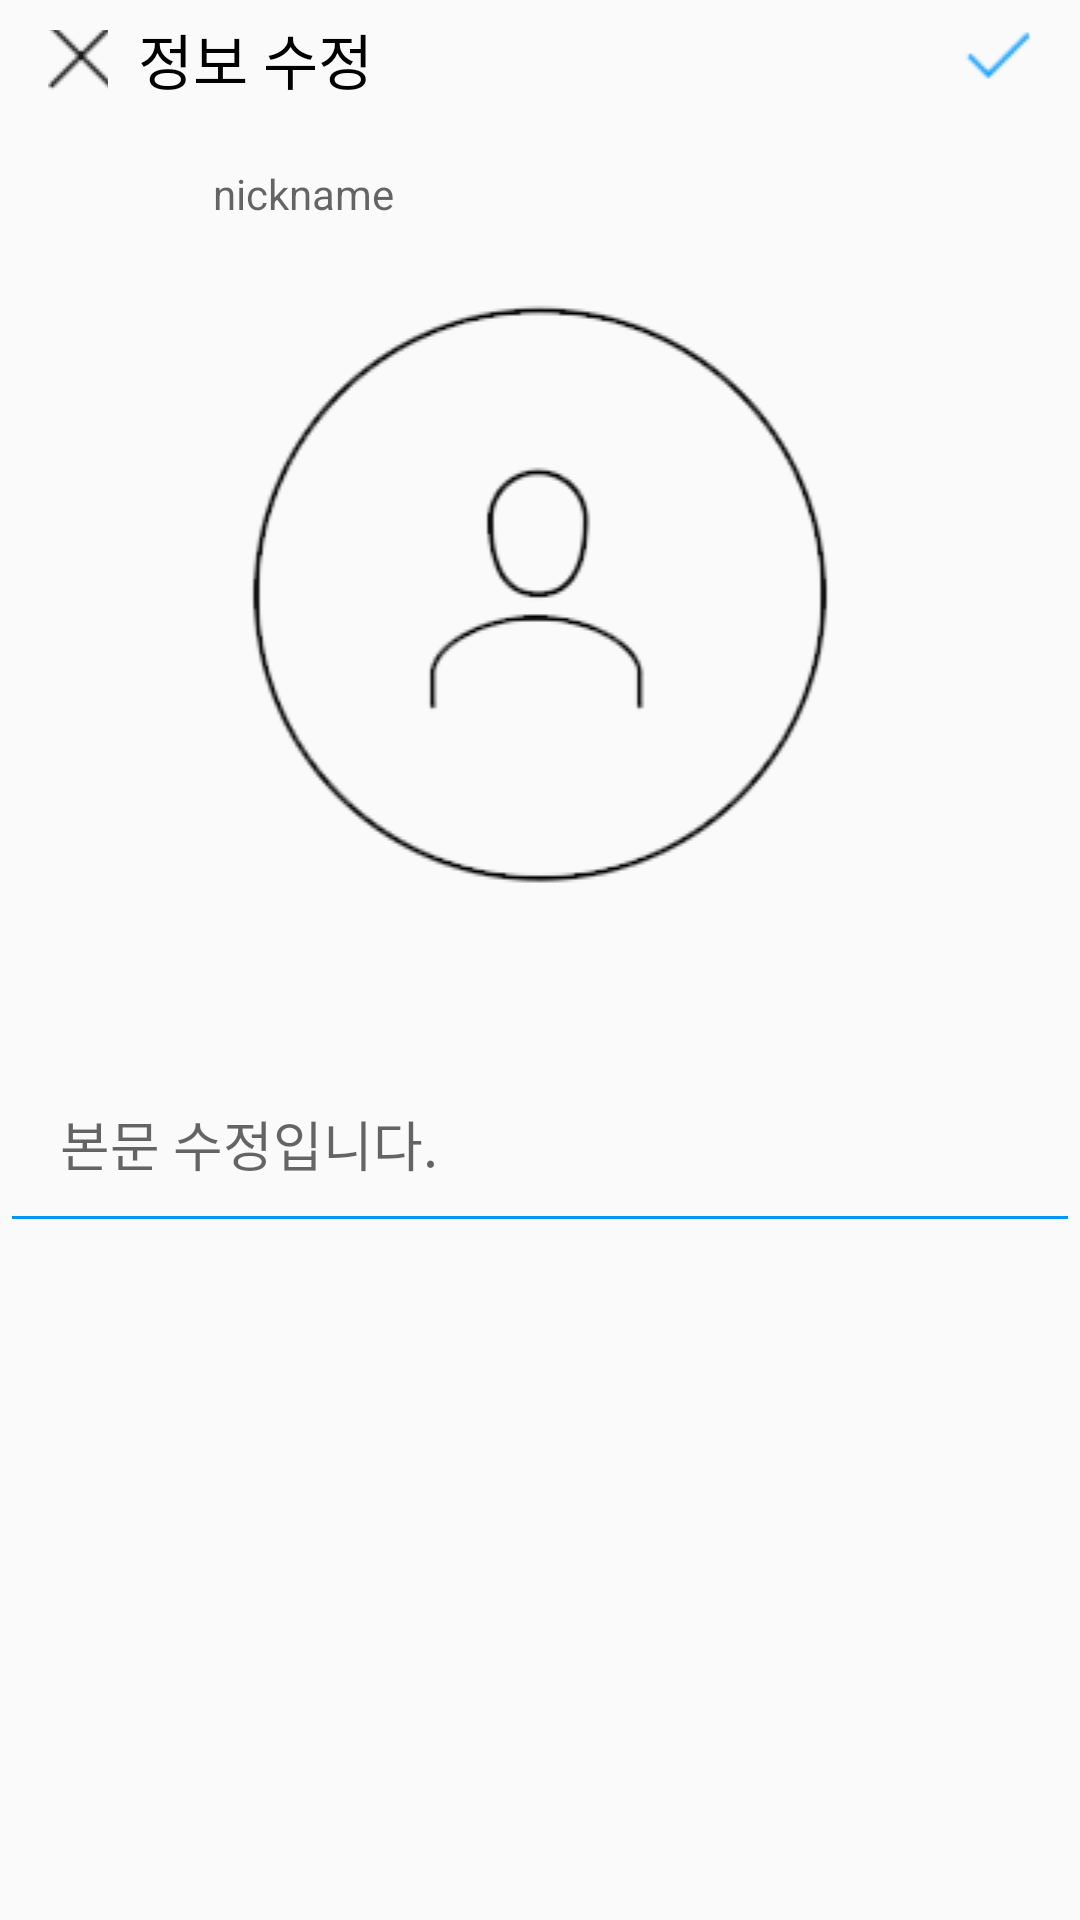

Where to tap for icons on this 1080w x 1920h app screen, as point (x, y):
close: point (78, 59)
next check: point (998, 55)
